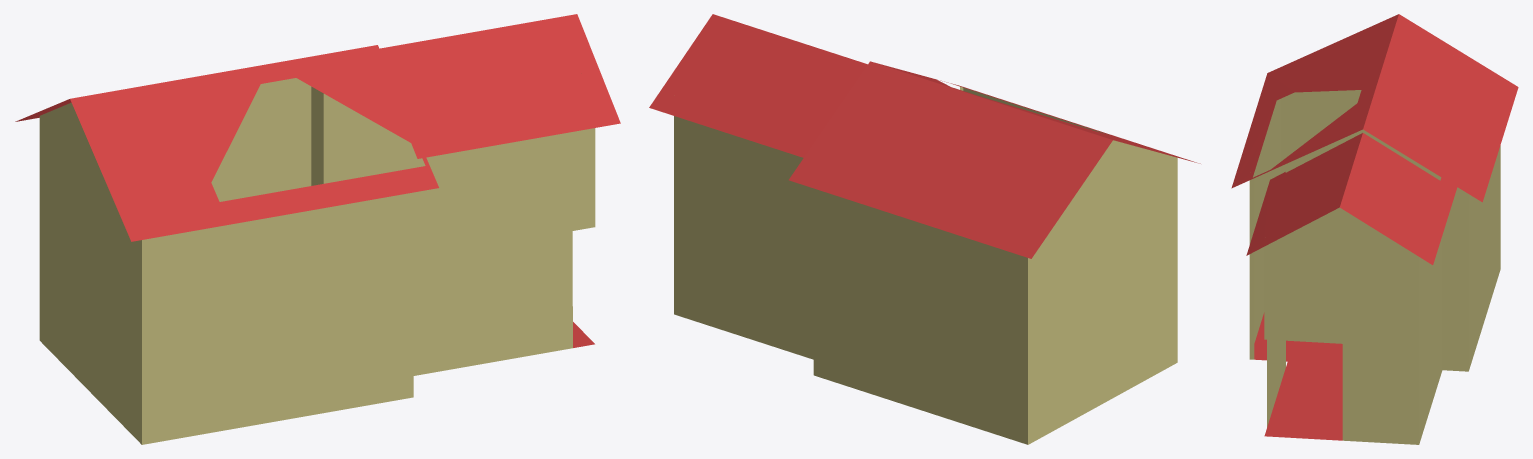
3 renders of one model, left to right at view 1: azimuth 30°, elevation 25°; view 2: azimuth 150°, elevation 25°; view 3: azimuth 270°, elevation 25°, orthographic. The views are drawn at different scales.
Size of the model in its own units: 29.74 by 17.8 by 16.64.
